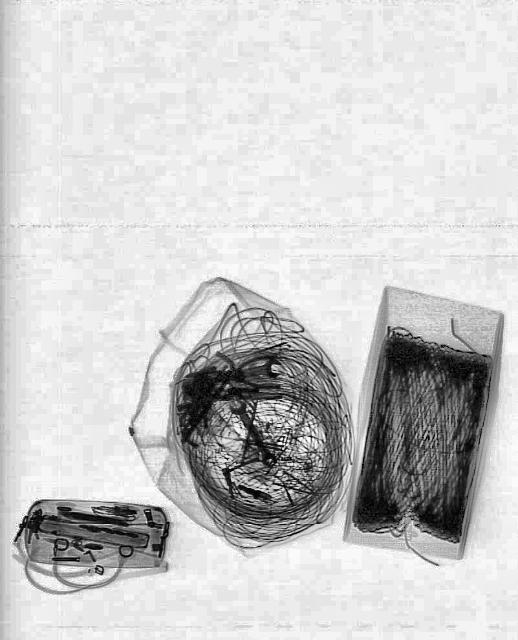Wrench: (226, 392, 280, 472), (220, 356, 282, 384)
